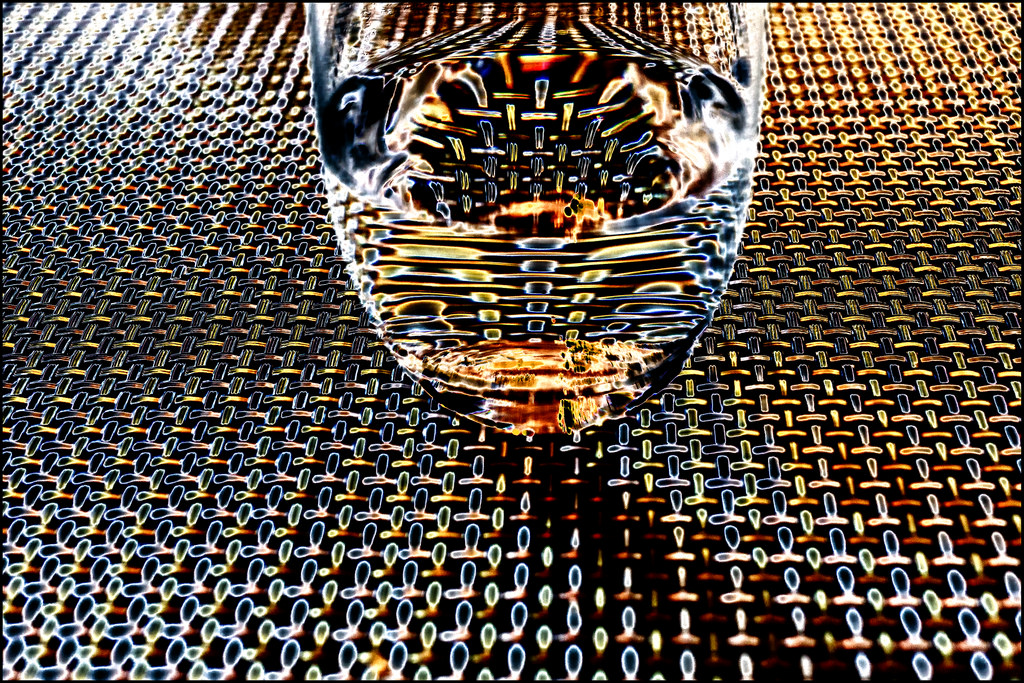glass of water: (311, 7, 745, 430)
